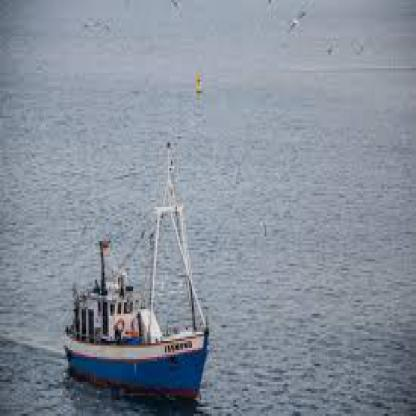fish-b: (51, 125, 221, 414)
